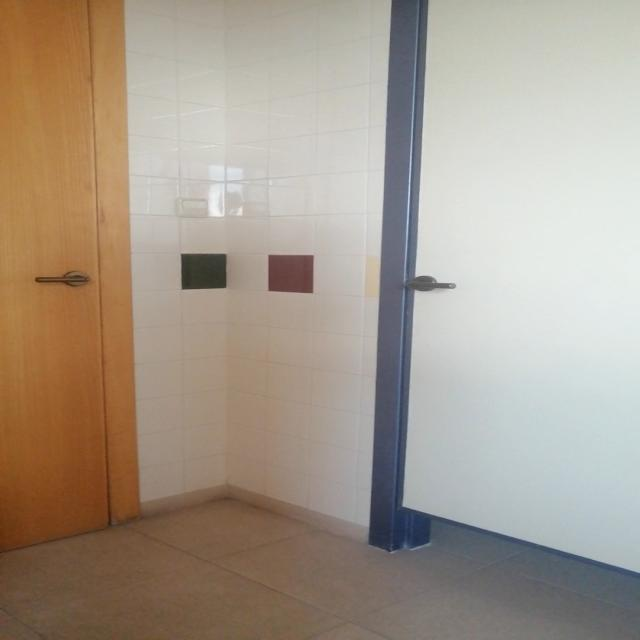door_handle: (402, 280, 459, 291), (32, 275, 94, 285)
